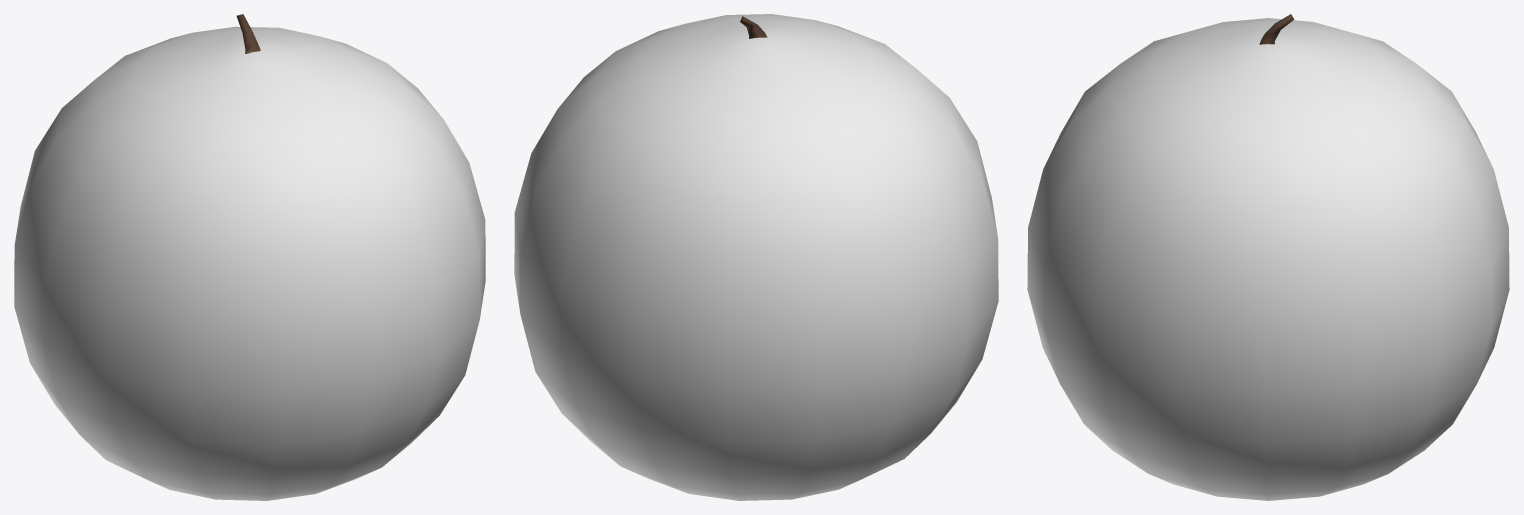
3 views of the same model, side by side, from view 1: azimuth 30°, elevation 25°; view 2: azimuth 150°, elevation 25°; view 3: azimuth 270°, elevation 25° (orthographic). The views are drawn at different scales.
Visible parts, largest first — view 1: arbuz colision; view 2: arbuz colision; view 3: arbuz colision.
Boxes of the visible parts, <box> form: arbuz colision: <box>14,26,485,500</box>; arbuz colision: <box>514,14,998,500</box>; arbuz colision: <box>1027,18,1509,500</box>.
Size of what is drawn, in the model's own units: 37.95 by 39.88 by 37.95.
1 material, 1 textured.
